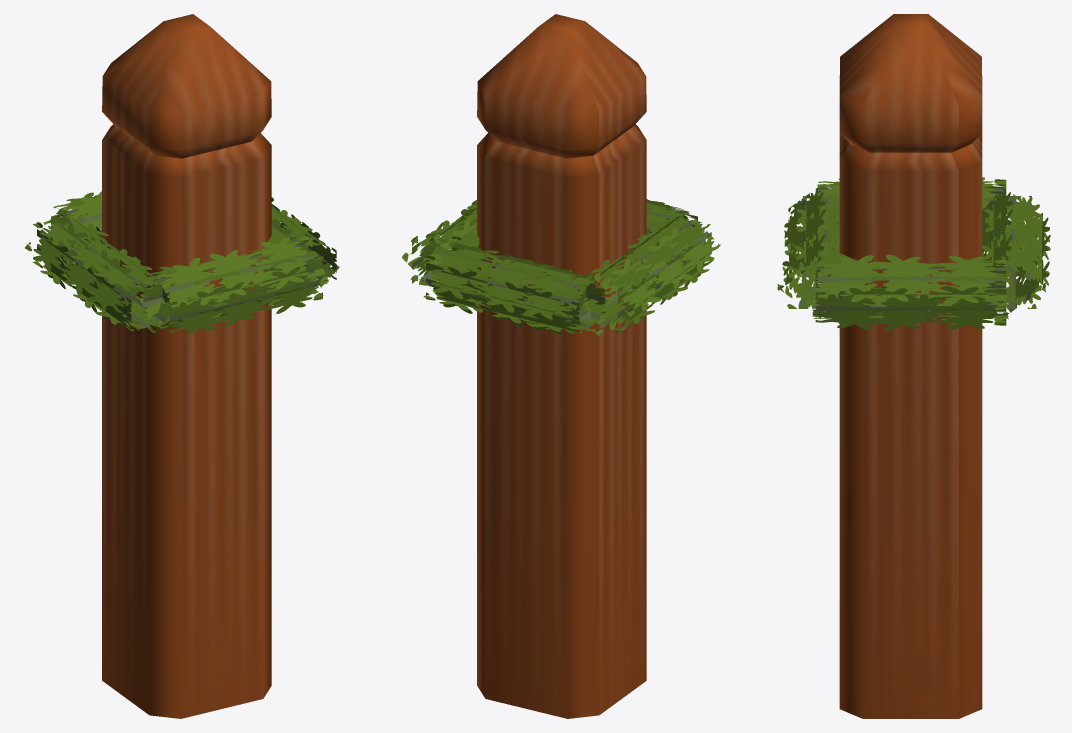
Rendered from FestiveFenceHand.fbx.
3 renders of one model, left to right at view 1: azimuth 30°, elevation 25°; view 2: azimuth 150°, elevation 25°; view 3: azimuth 270°, elevation 25°, orthographic.
Parts seen in each view (by area): view 1: FencePost; view 2: FencePost; view 3: FencePost.
Part boxes in pixels (x1,y1,x2,y2): FencePost: (25,14,339,718); FencePost: (402,14,720,718); FencePost: (777,14,1050,718).
Bounding box in the file's own units: 0.4089 × 1.03 × 0.4089.
1 material, 1 textured.
